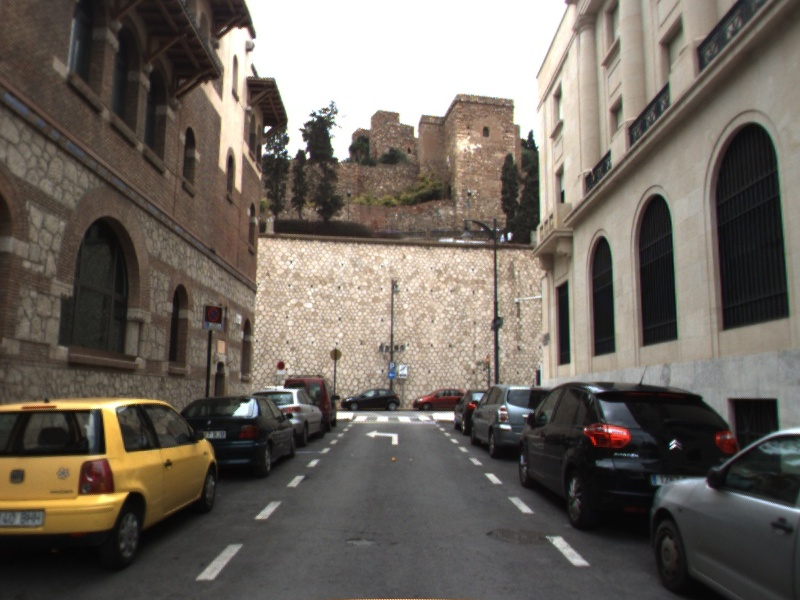LEFT: (364, 428, 400, 447)
